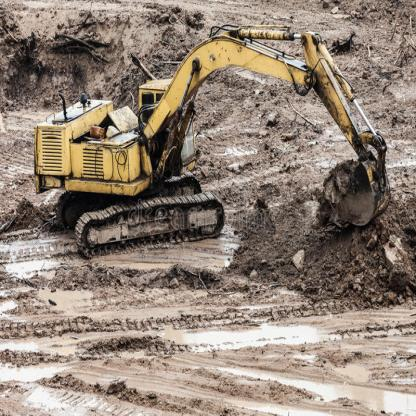excavator: (31, 20, 393, 261)
